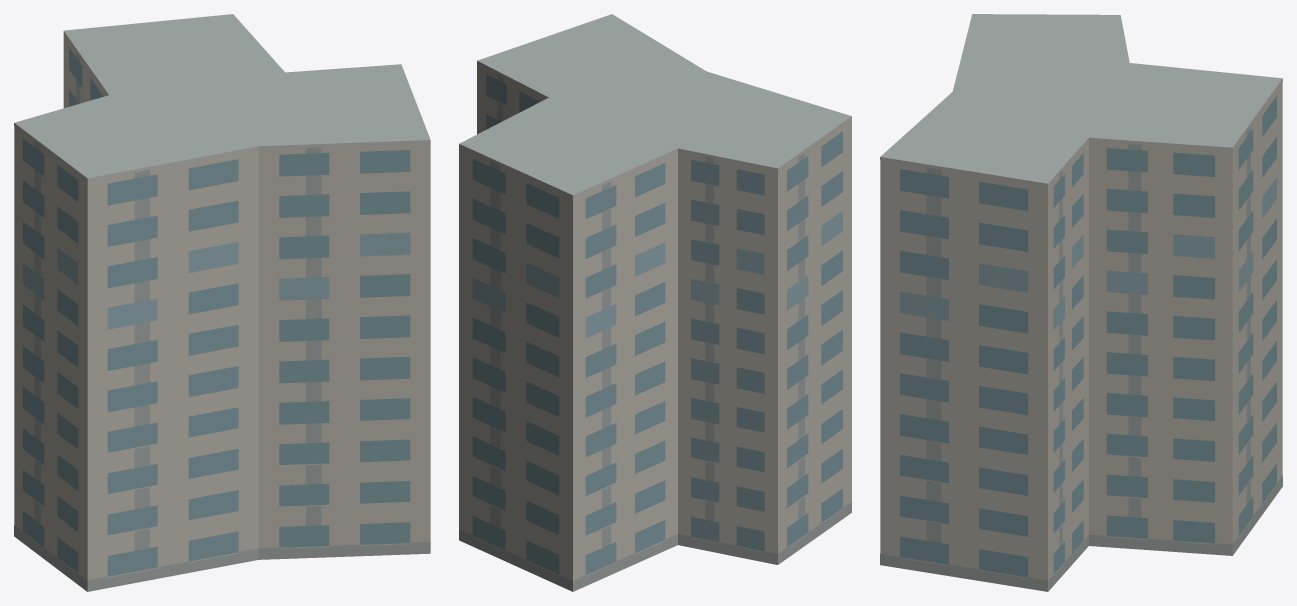
The model's file is residential-3b89ab03-1f84-4434-895c-f76e530f9624.glb.
The picture shows the model from 3 angles, left to right: view 1: azimuth 30°, elevation 25°; view 2: azimuth 150°, elevation 25°; view 3: azimuth 270°, elevation 25°; orthographic projection. The views are drawn at different scales.
Visible parts, largest first — view 1: residential-3b89ab03-1f84-4434-895c-f76e530f9624.tmp; view 2: residential-3b89ab03-1f84-4434-895c-f76e530f9624.tmp; view 3: residential-3b89ab03-1f84-4434-895c-f76e530f9624.tmp.
Part boxes in pixels (x1=…): residential-3b89ab03-1f84-4434-895c-f76e530f9624.tmp: x1=14, y1=14, x2=430, y2=591; residential-3b89ab03-1f84-4434-895c-f76e530f9624.tmp: x1=459, y1=14, x2=851, y2=591; residential-3b89ab03-1f84-4434-895c-f76e530f9624.tmp: x1=880, y1=14, x2=1282, y2=591.
Bounding box in the file's own units: 27.64 × 31 × 27.72.
